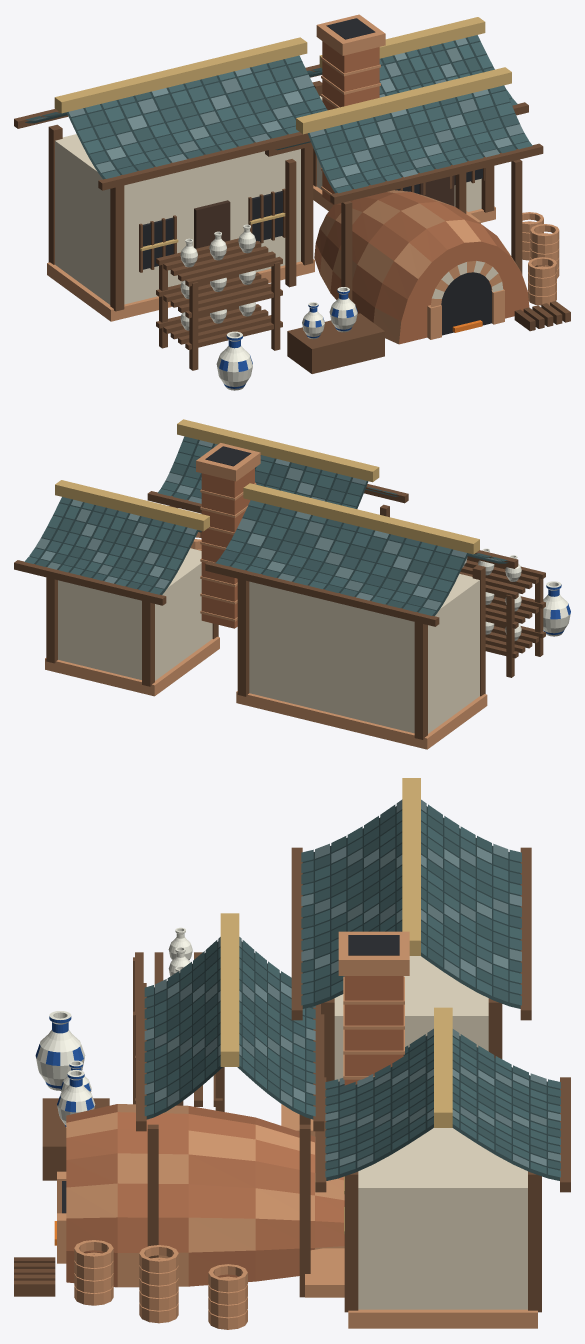
The model's file is jingdezhen.glb.
The picture shows the model from 3 angles, top to bottom: view 1: azimuth 30°, elevation 25°; view 2: azimuth 150°, elevation 25°; view 3: azimuth 270°, elevation 25°; orthographic projection. The views are drawn at different scales.
Parts seen in each view (by area): view 1: workshop_walls_-0.8, teal_tiles_-0.8_-0.48, teal_tiles_0.44_0.44, half_duck_egg_kiln_brick, drying_rack_timber, teal_tiles_1.05_-0.64, kiln_chimney, ceramic_display, kiln_opening_and_arch, kiln_shelter_timber, workshop_walls_1.05, stacked_saggars (+3 smaller); view 2: workshop_walls_-0.8, teal_tiles_-0.8_-0.48, workshop_walls_1.05, teal_tiles_1.05_-0.64, teal_tiles_0.44_0.44, kiln_chimney, drying_rack_timber, porcelain_city_marker, drying_whiteware; view 3: half_duck_egg_kiln_brick, workshop_walls_1.05, teal_tiles_-0.8_-0.48, teal_tiles_1.05_-0.64, teal_tiles_0.44_0.44, kiln_chimney, stacked_saggars, workshop_walls_-0.8, kiln_shelter_timber, ceramic_display, porcelain_city_marker, drying_rack_timber (+3 smaller).
Part boxes in pixels (x1,y1,x2,y2): workshop_walls_-0.8: [47, 124, 314, 321]; teal_tiles_-0.8_-0.48: [14, 37, 327, 190]; teal_tiles_0.44_0.44: [265, 67, 543, 204]; half_duck_egg_kiln_brick: [314, 190, 529, 344]; drying_rack_timber: [156, 238, 282, 370]; teal_tiles_1.05_-0.64: [305, 17, 528, 115]; kiln_chimney: [316, 14, 385, 204]; ceramic_display: [287, 287, 384, 373]; kiln_opening_and_arch: [427, 260, 504, 339]; kiln_shelter_timber: [285, 159, 522, 301]; workshop_walls_1.05: [312, 81, 495, 223]; stacked_saggars: [522, 212, 559, 305]; workshop_walls_-0.8: [236, 565, 487, 749]; teal_tiles_-0.8_-0.48: [205, 483, 518, 626]; workshop_walls_1.05: [45, 548, 219, 696]; teal_tiles_1.05_-0.64: [14, 480, 209, 605]; teal_tiles_0.44_0.44: [147, 419, 408, 513]; kiln_chimney: [196, 443, 260, 628]; drying_rack_timber: [459, 557, 545, 677]; porcelain_city_marker: [543, 581, 570, 636]; drying_whiteware: [462, 548, 521, 640]; half_duck_egg_kiln_brick: [66, 1104, 344, 1287]; workshop_walls_1.05: [305, 1128, 541, 1328]; teal_tiles_-0.8_-0.48: [291, 778, 531, 1020]; teal_tiles_1.05_-0.64: [315, 1007, 570, 1192]; teal_tiles_0.44_0.44: [136, 913, 324, 1131]; kiln_chimney: [338, 931, 409, 1085]; stacked_saggars: [74, 1240, 247, 1329]; workshop_walls_-0.8: [281, 956, 502, 1136]; kiln_shelter_timber: [147, 1114, 310, 1297]; ceramic_display: [42, 1060, 109, 1180]; porcelain_city_marker: [35, 1011, 85, 1090]; drying_rack_timber: [133, 952, 224, 1111].
Size of the model in its own units: 3.45 by 1.64 by 2.82.
